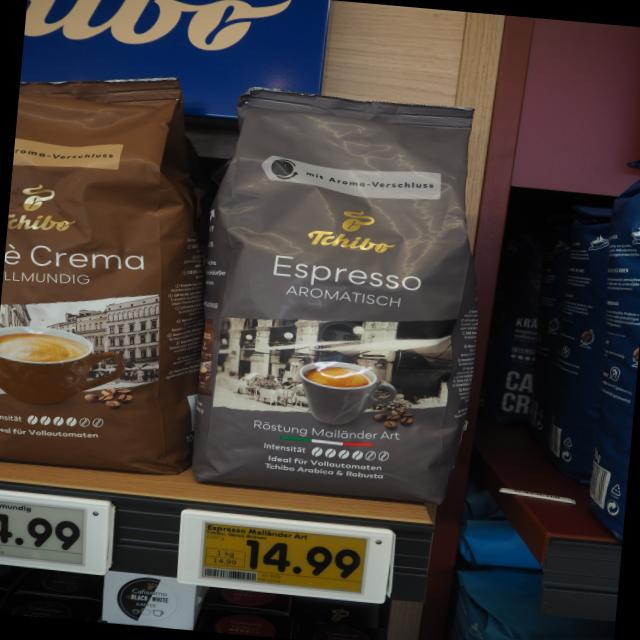CC Vollmundig 36 Pads: (0, 56, 223, 479)
Espresso Aromatisch: (181, 80, 505, 516)
